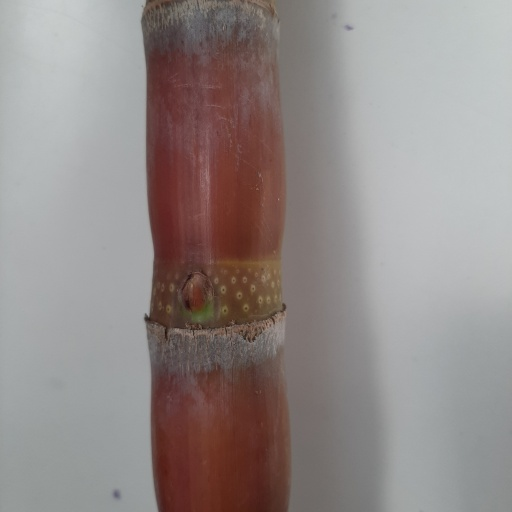Bud: (181, 272, 212, 315)
